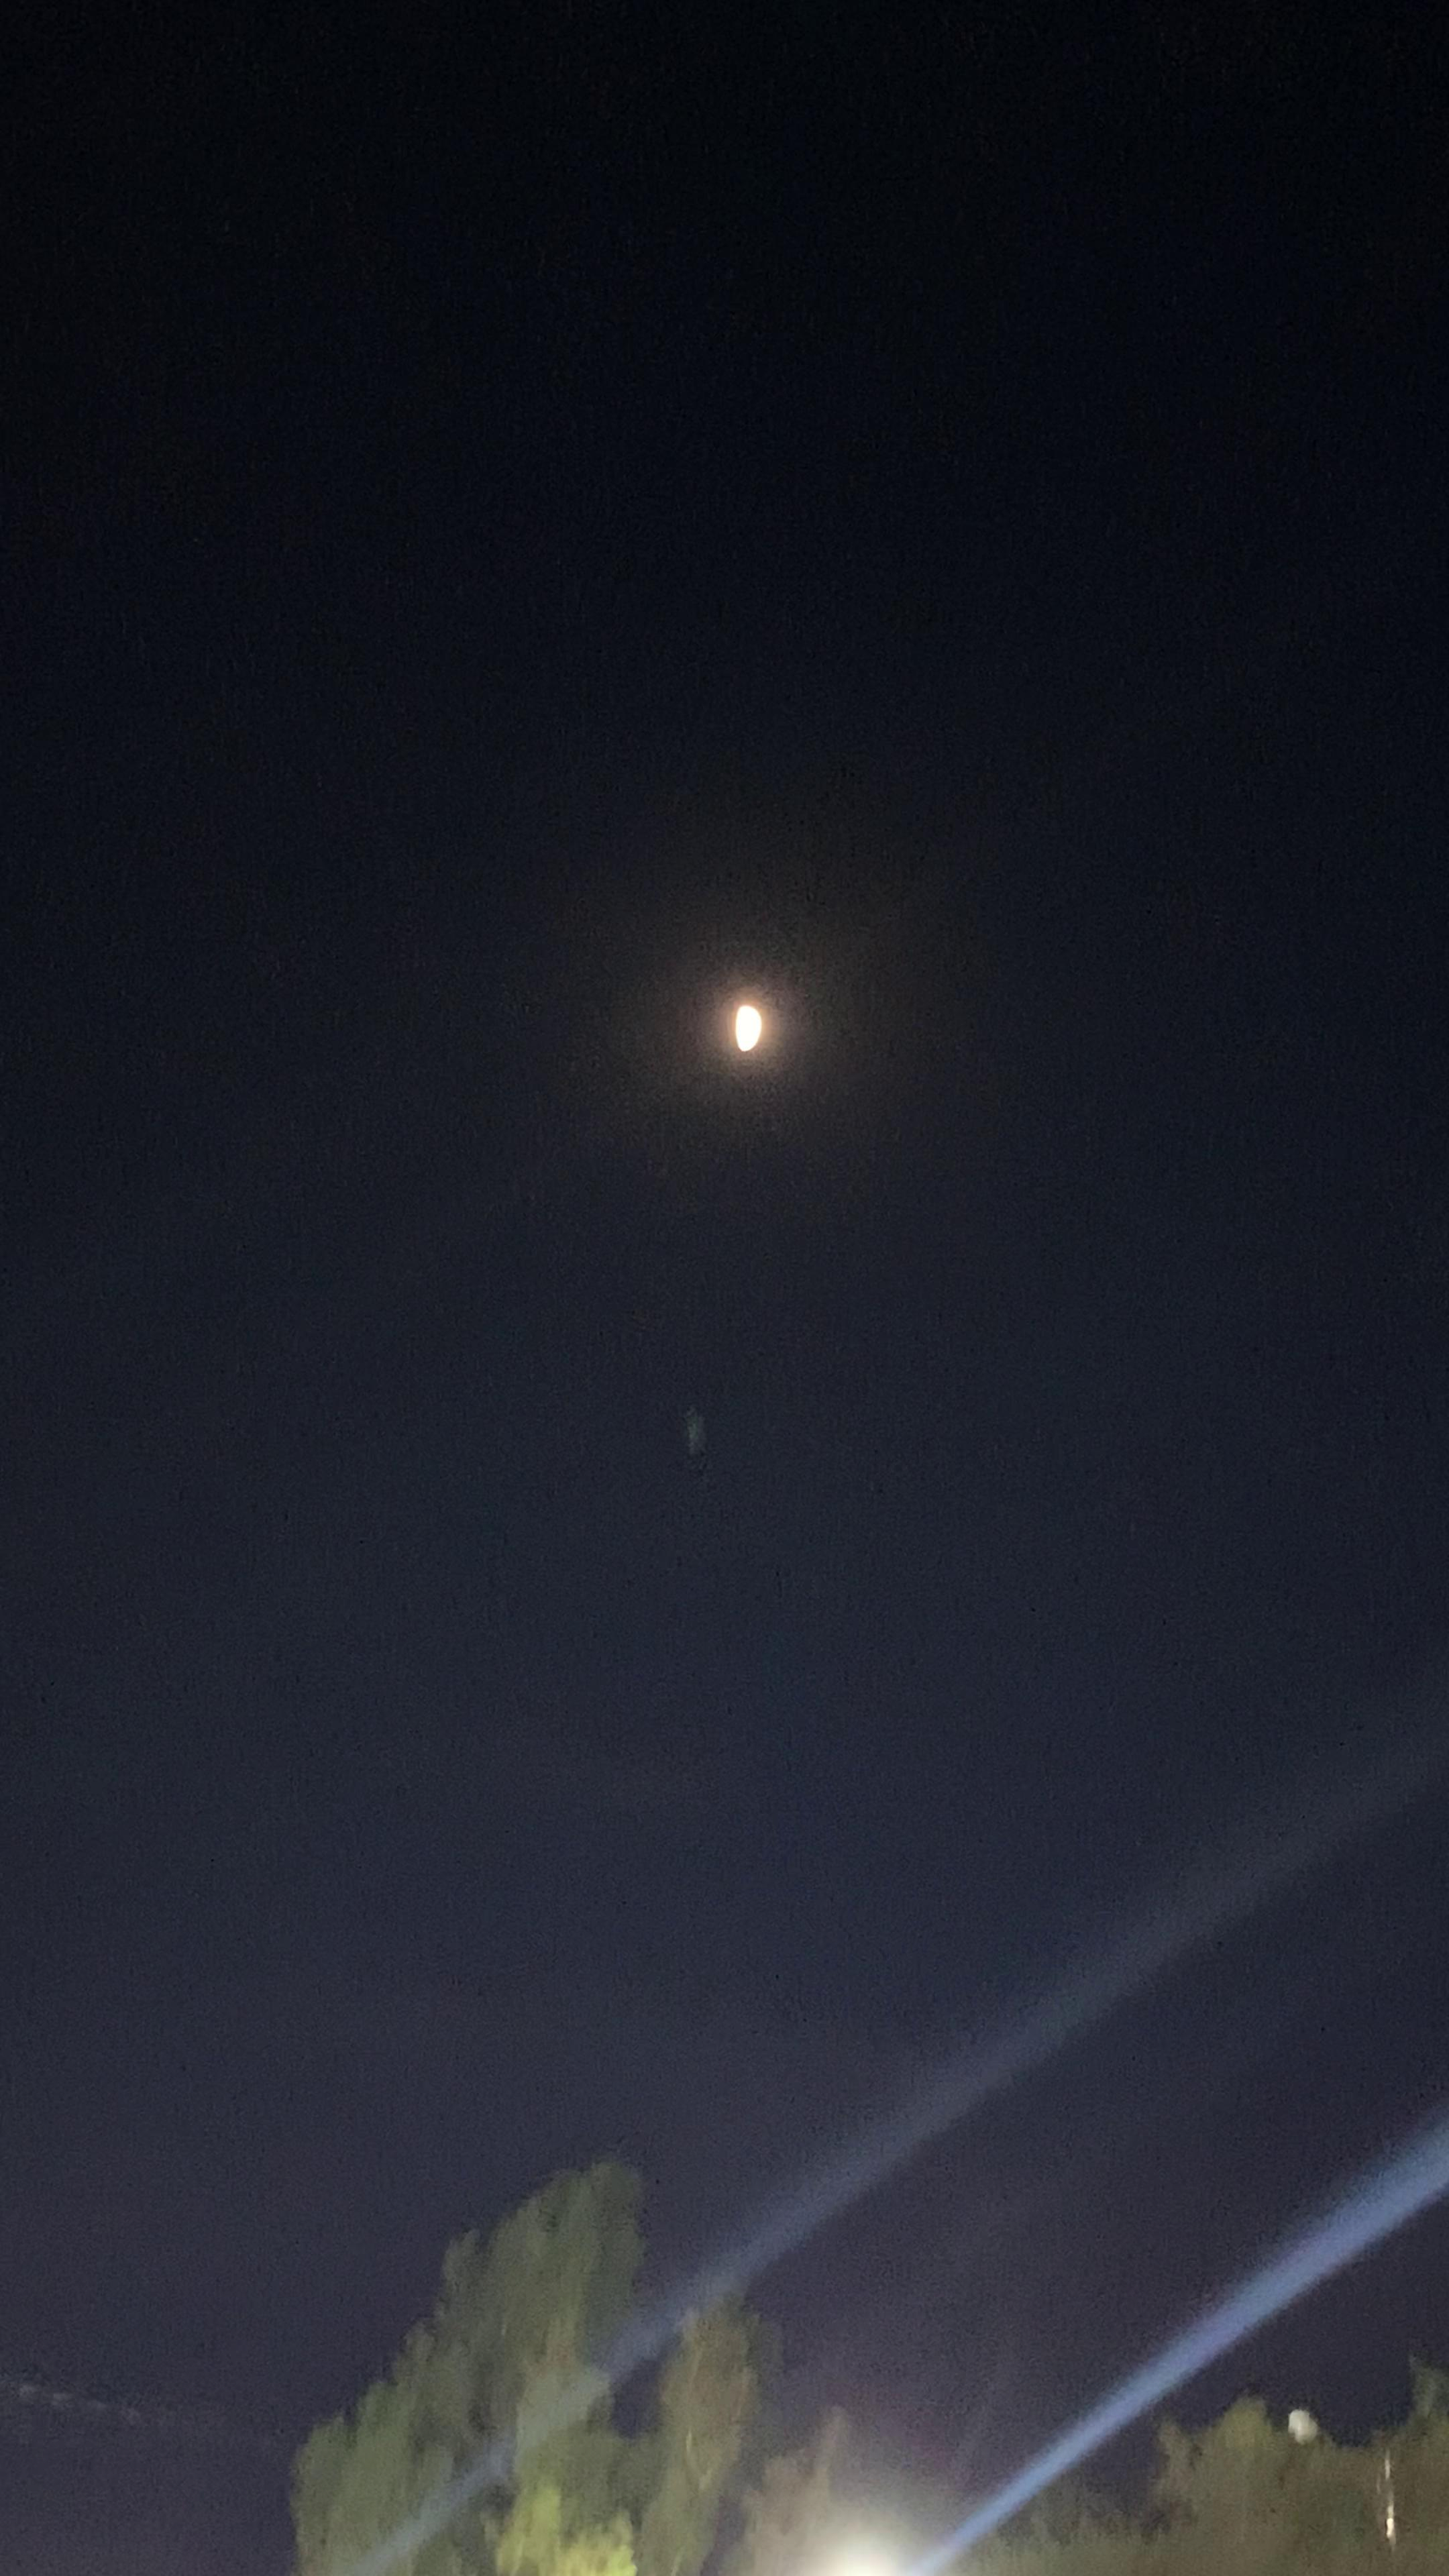moon: (699, 971, 800, 1090)
